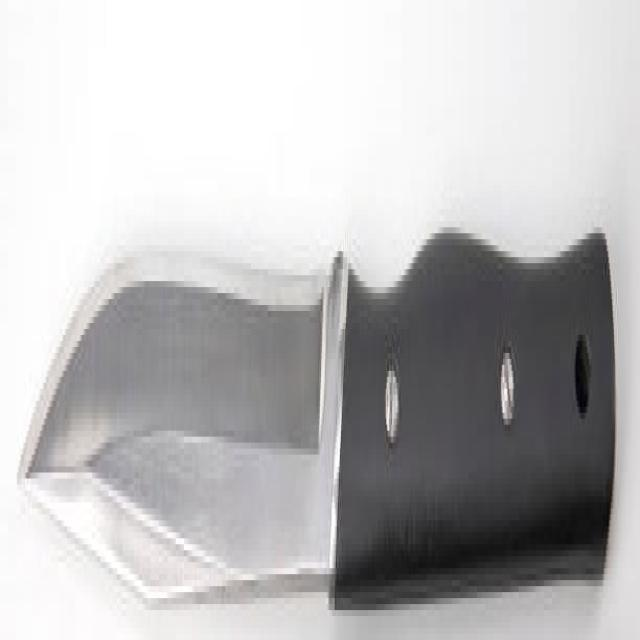knife: (9, 199, 632, 640)
